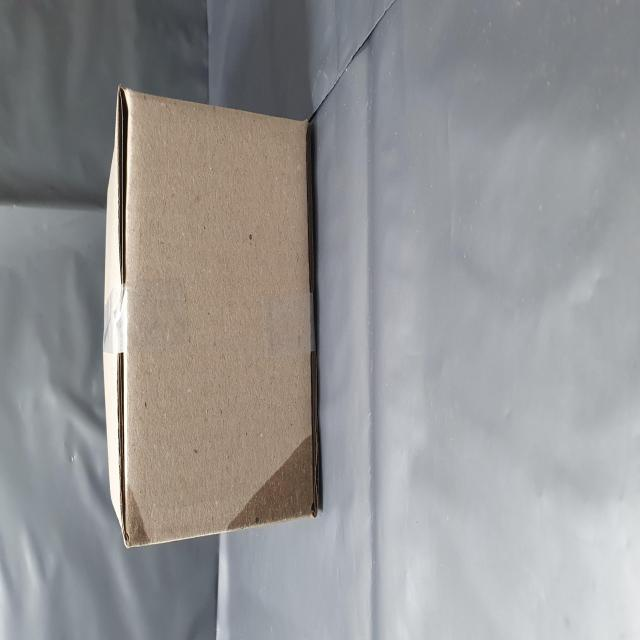wet: (61, 398, 122, 589)
